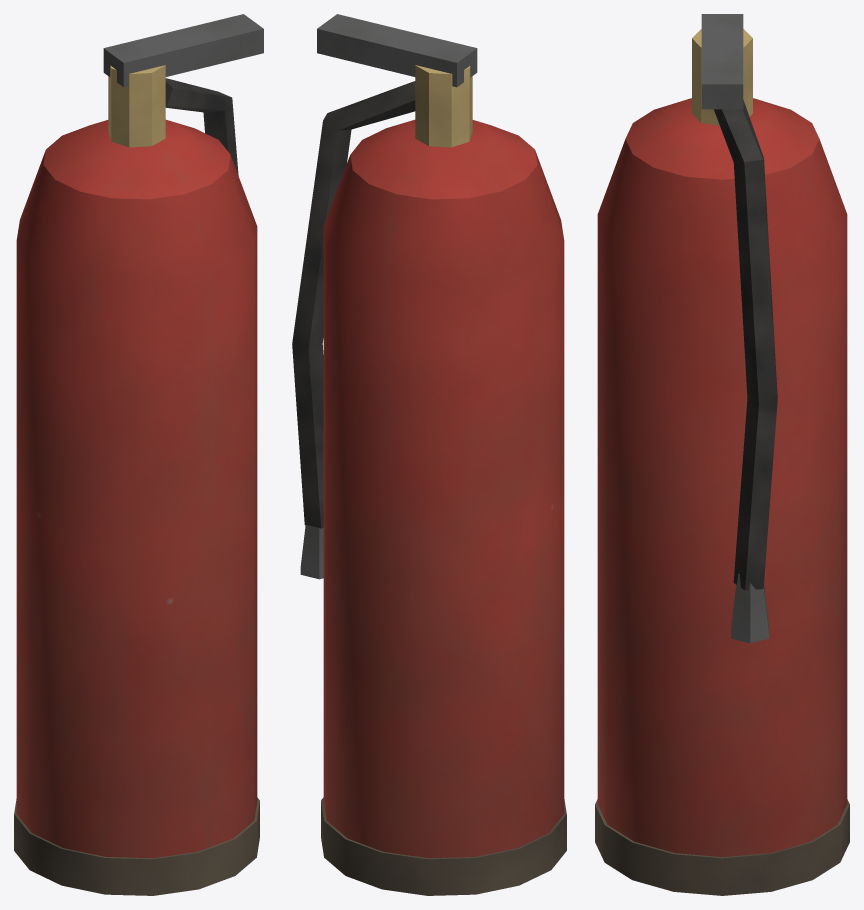
The model's file is extinguisher.glb.
3 renders of one model, left to right at view 1: azimuth 30°, elevation 25°; view 2: azimuth 150°, elevation 25°; view 3: azimuth 270°, elevation 25°, orthographic. The views are drawn at different scales.
Visible parts, largest first — view 1: extinguisher.001; view 2: extinguisher.001; view 3: extinguisher.001.
Part boxes in pixels (bbox=[...]): extinguisher.001: bbox=[14, 14, 263, 895]; extinguisher.001: bbox=[292, 14, 566, 895]; extinguisher.001: bbox=[595, 14, 849, 895].
Bounding box in the file's own units: 0.2034 × 0.65 × 0.184.
1 material, 1 textured.
